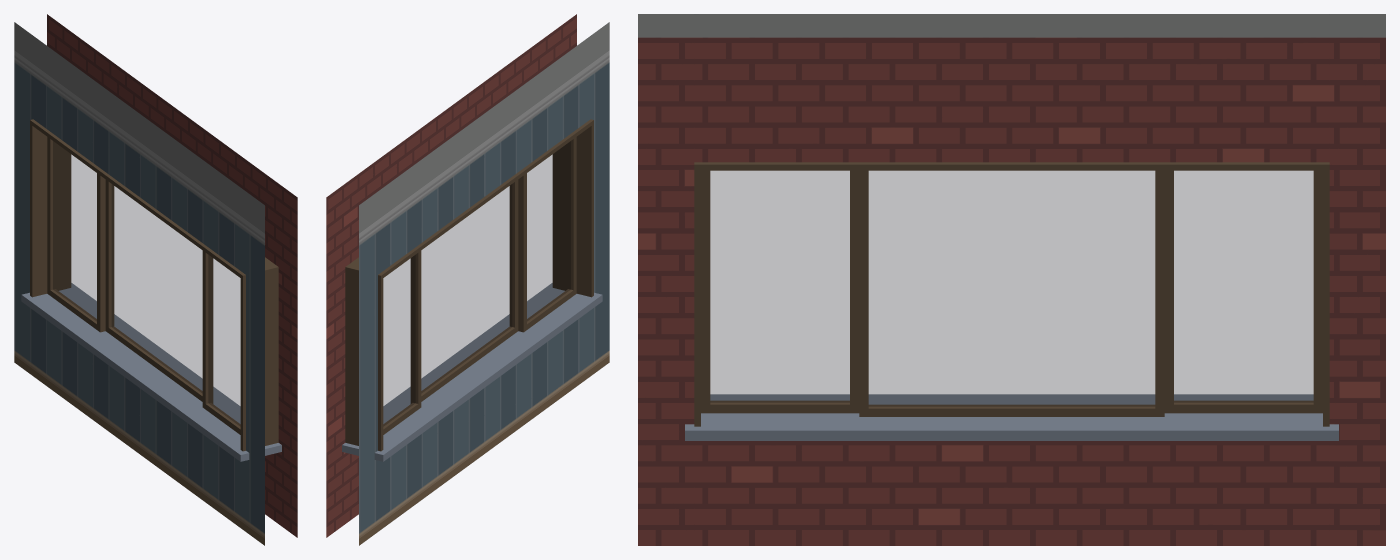
The model's file is SM_window_14.glb.
The picture shows the model from 3 angles, left to right: view 1: azimuth 30°, elevation 25°; view 2: azimuth 150°, elevation 25°; view 3: azimuth 270°, elevation 25°; orthographic projection. The views are drawn at different scales.
Parts seen in each view (by area): view 1: SM_window_14; view 2: SM_window_14; view 3: SM_window_14.
Boxes of the visible parts, x1,y1,x2,y2 form: SM_window_14: (14,14,297,545); SM_window_14: (326,14,609,545); SM_window_14: (638,14,1385,545).
Bounding box in the file's own units: 0.46 × 3 × 4.
4 materials, 3 textured.
